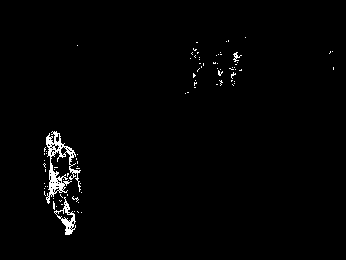person: (43, 131, 81, 235)
